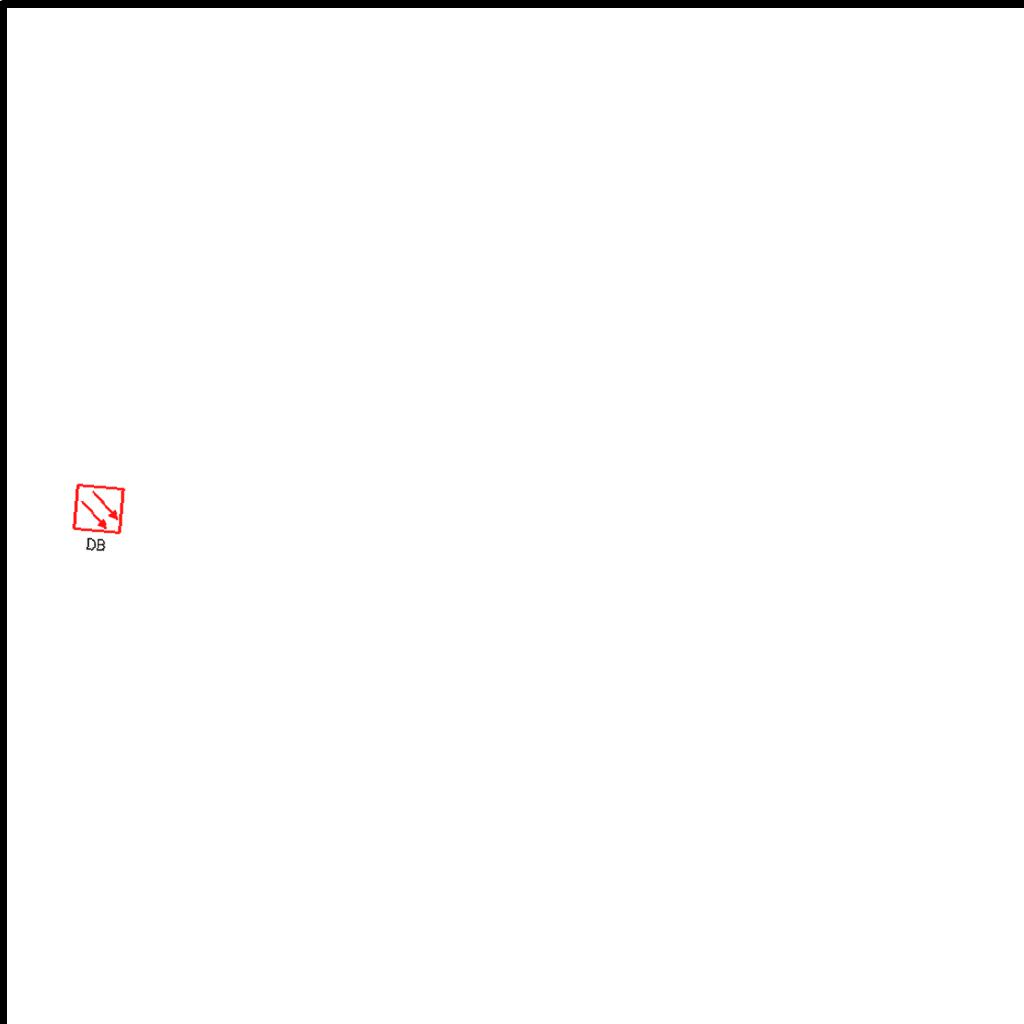DB_Melder_in_Doppelboden_mit_Revisionsoeffnung_mind_40_x_40_cm: (66, 479, 131, 559)
